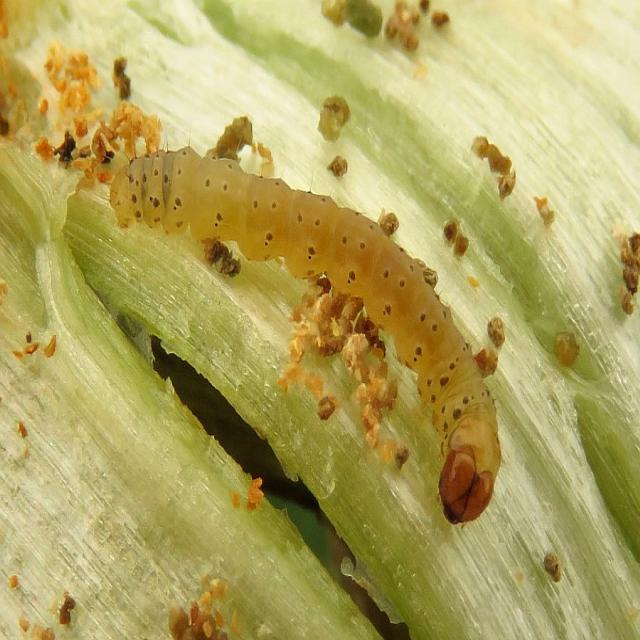cornborer-Larva-: (89, 126, 529, 544)
